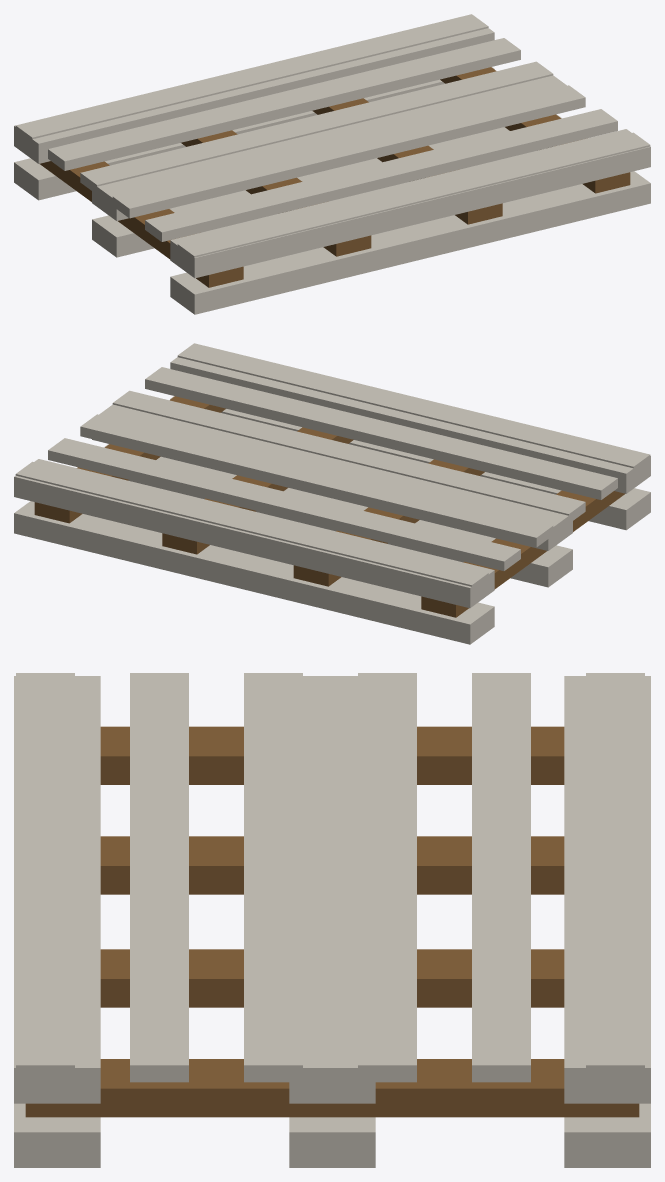
Rendered from pallet.glb.
The picture shows the model from 3 angles, top to bottom: view 1: azimuth 30°, elevation 25°; view 2: azimuth 150°, elevation 25°; view 3: azimuth 270°, elevation 25°; orthographic projection. The views are drawn at different scales.
Visible parts, largest first — view 1: pallet; view 2: pallet; view 3: pallet.
Part boxes in pixels (x1,y1,x2,y2): pallet: (14,14,650,314); pallet: (14,343,650,644); pallet: (14,673,650,1167).
Bounding box in the file's own units: 1.18 × 0.144 × 0.81.
